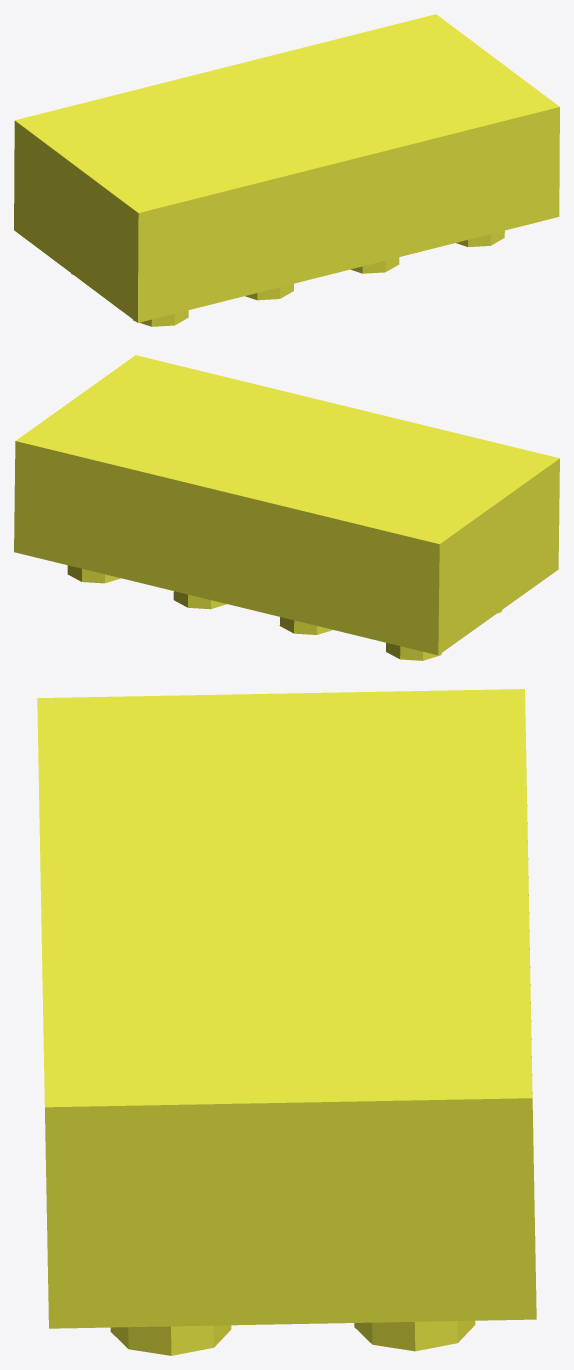
File: LegoBrick 1.fbx
3 renders of one model, top to bottom at view 1: azimuth 30°, elevation 25°; view 2: azimuth 150°, elevation 25°; view 3: azimuth 270°, elevation 25°, orthographic. The views are drawn at different scales.
Visible parts, largest first — view 1: polySurface8003; view 2: polySurface8003; view 3: polySurface8003.
Part boxes in pixels (left/top/right/bottom): polySurface8003: left=14, top=14, right=559, bottom=326; polySurface8003: left=14, top=355, right=559, bottom=660; polySurface8003: left=37, top=689, right=536, bottom=1355.
Bounding box in the file's own units: 4.25 × 1.37 × 2.17.
